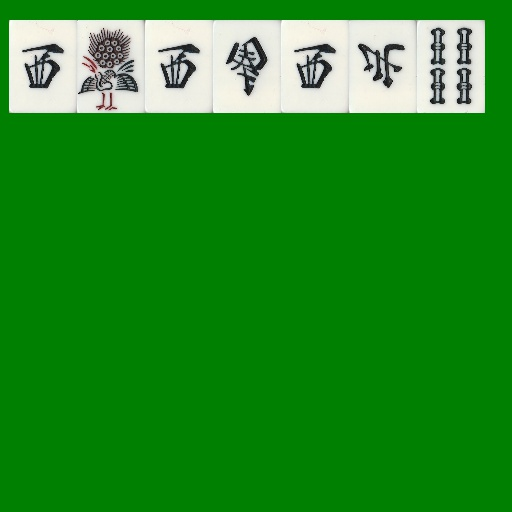1s: (77, 20, 145, 113)
4s: (417, 20, 485, 113)
north: (349, 20, 417, 113)
south: (213, 20, 281, 113)
west: (9, 20, 77, 113), (145, 20, 213, 113), (281, 20, 349, 113)
